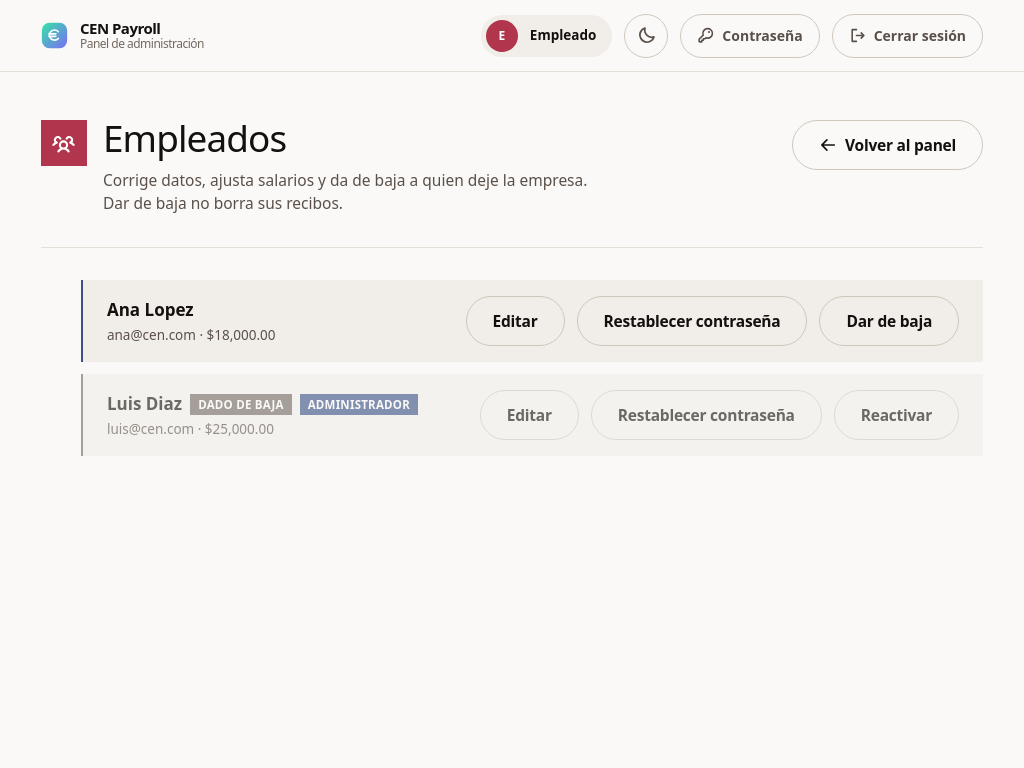
edicion › guarda los cambios y los refleja en la lista
The image size is (1024, 768).
Click the button "Editar" in the row of "Ana Lopez" at (515, 321), box [466,296,564,346]
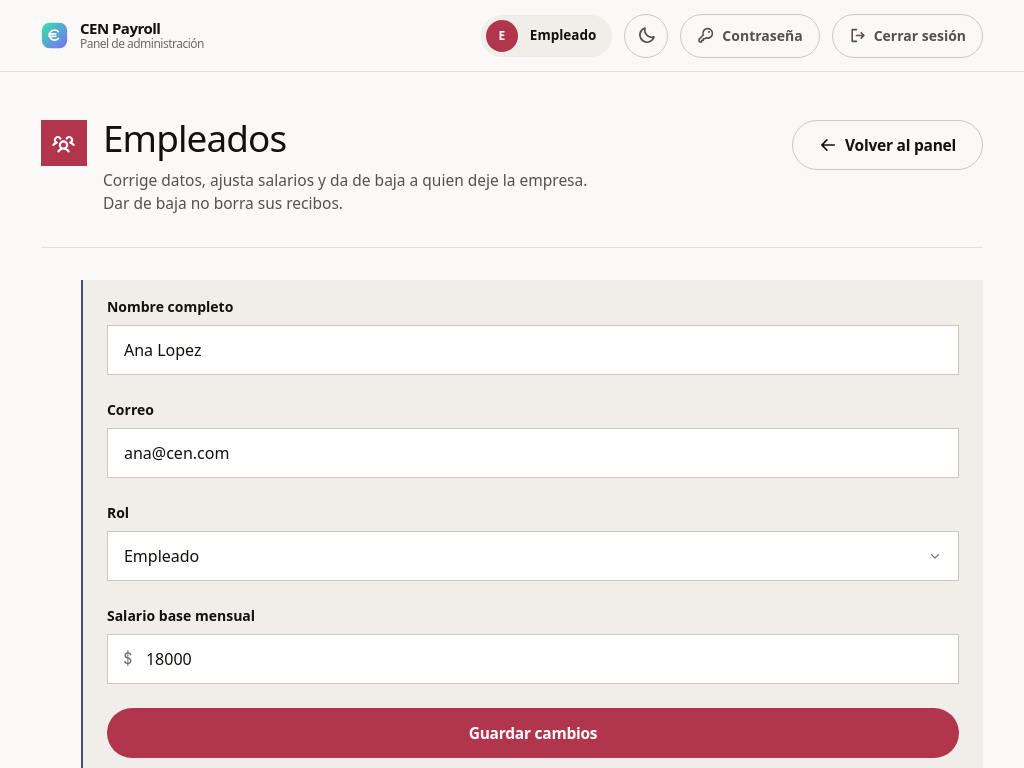
Replace the text in the number field labelled "Salario base mensual" with "21000" at (533, 659), box [107,634,959,684]
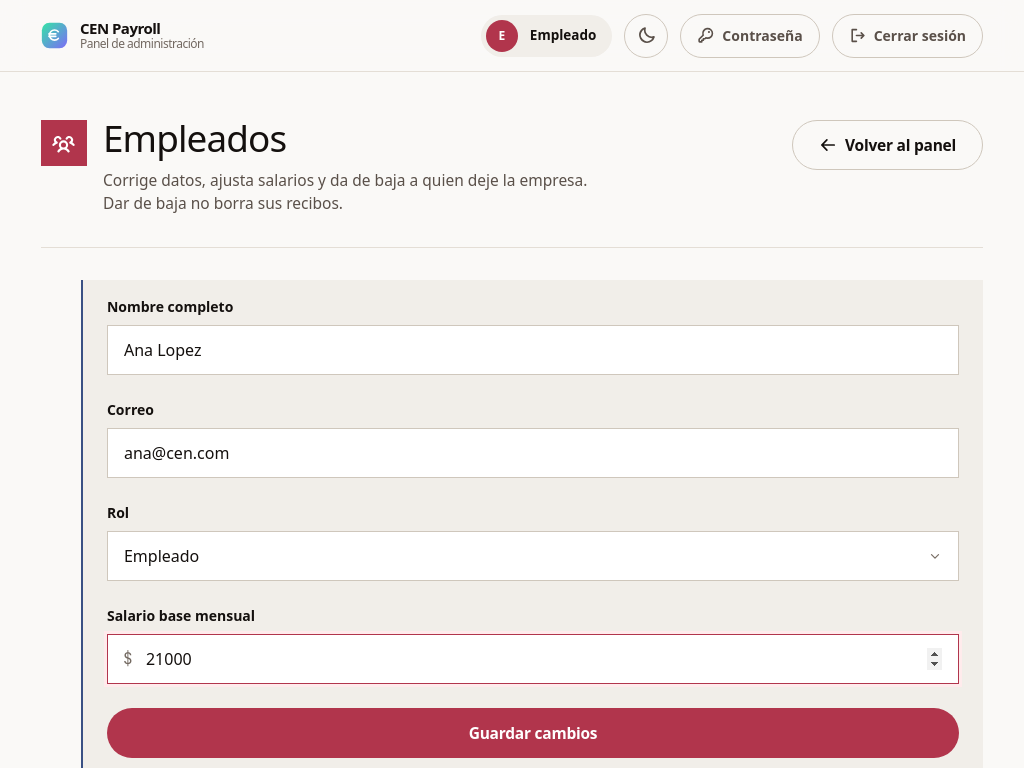
Click the button "Guardar cambios" at (533, 733), box [107,708,959,758]
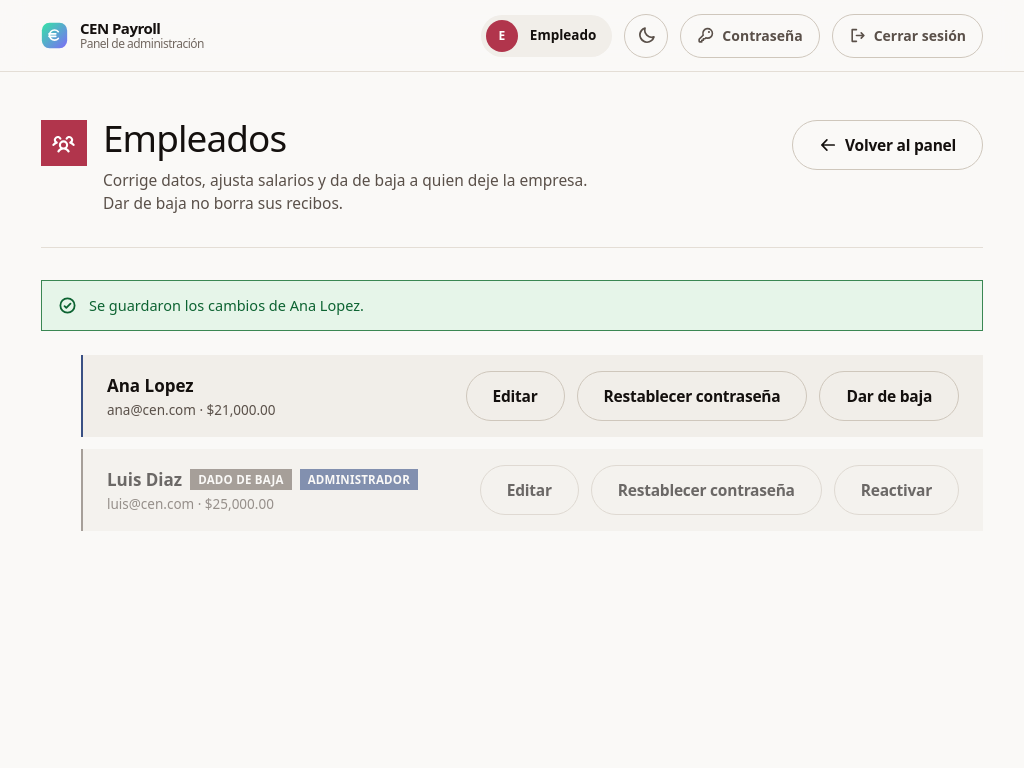
Now the text "Se guardaron los cambios de Ana Lopez." is shown, box [89,295,364,316]
